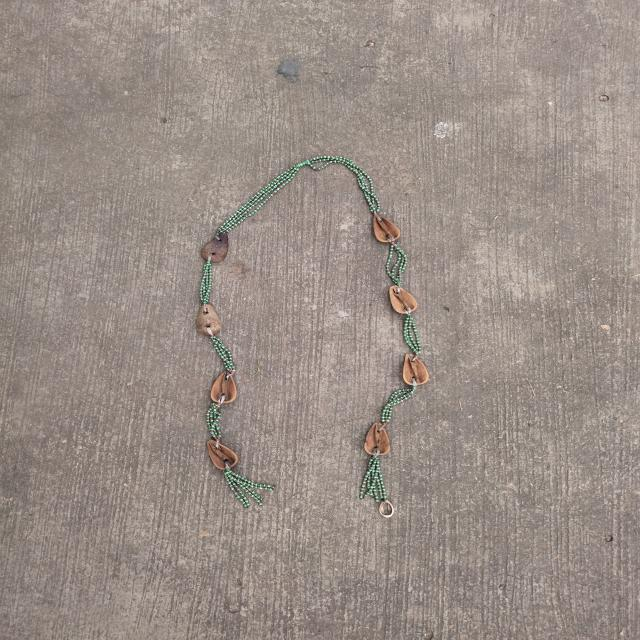facedown: (197, 226, 240, 269), (191, 301, 232, 343)
faceup: (388, 346, 439, 395), (194, 438, 254, 478), (373, 282, 427, 323), (356, 417, 402, 465), (358, 209, 411, 248), (202, 368, 248, 409)
